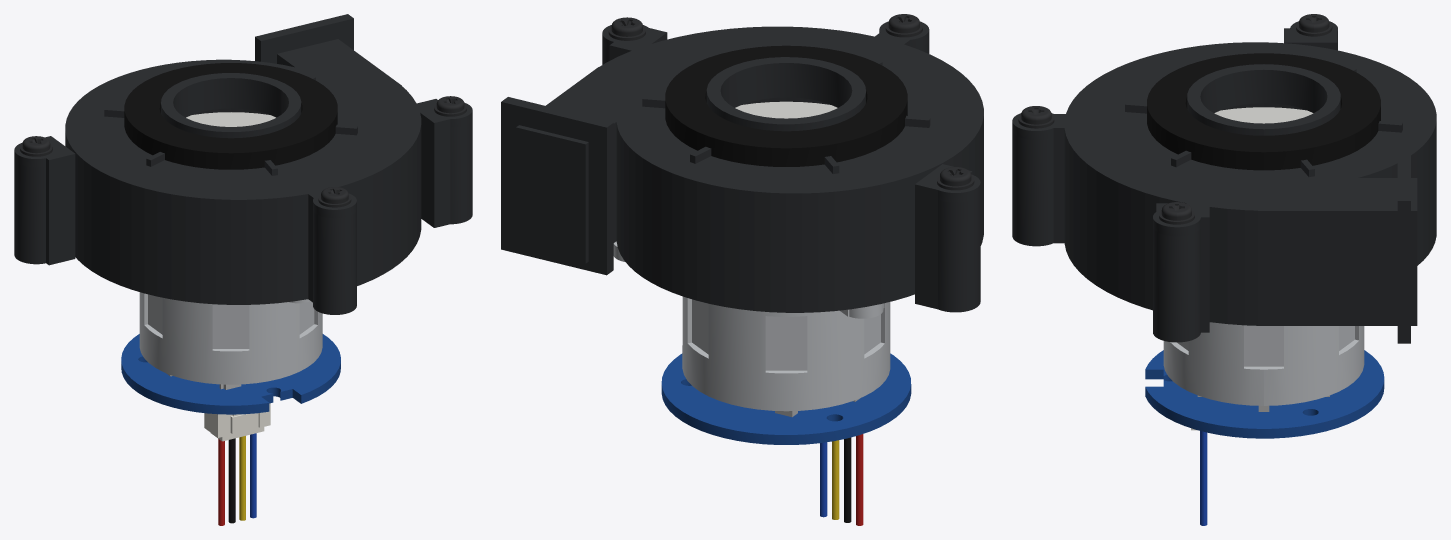
The model's file is bldc-fan.glb.
3 renders of one model, left to right at view 1: azimuth 30°, elevation 25°; view 2: azimuth 150°, elevation 25°; view 3: azimuth 270°, elevation 25°, orthographic. The views are drawn at different scales.
Parts seen in each view (by area): view 1: volute, cover_shell, motor_can, gasket_inlet, pcb, impeller, conn_header, plug_housing, wire_2, wire_1, wire_4, wire_3 (+3 smaller); view 2: volute, cover_shell, motor_can, gasket_inlet, pcb, impeller, screw_1, screw_2, screw_3, wire_1, wire_2, wire_3 (+1 smaller); view 3: volute, cover_shell, motor_can, gasket_inlet, pcb, impeller, wire_4, screw_1, screw_2, screw_3.
Part boxes in pixels (x1,y1,x2,y2): volute: (14,14,472,314); cover_shell: (14,39,472,218); motor_can: (139,292,322,384); gasket_inlet: (124,63,337,169); pcb: (121,334,340,414); impeller: (186,112,275,126); conn_header: (204,403,270,437); plug_housing: (211,413,264,441); wire_2: (228,438,235,523); wire_1: (218,439,224,525); wire_4: (250,433,256,518); wire_3: (239,436,245,520); volute: (501,40,983,312); cover_shell: (516,21,983,202); motor_can: (613,241,890,411); gasket_inlet: (665,45,907,166); pcb: (661,353,911,444); impeller: (735,101,837,118); screw_1: (885,14,922,37); screw_2: (937,167,974,190); screw_3: (608,17,645,40); wire_1: (856,434,863,525); wire_2: (844,437,851,522); wire_3: (832,440,839,519); volute: (1012,40,1436,343); cover_shell: (1012,21,1436,236); motor_can: (1163,322,1364,405); gasket_inlet: (1147,53,1380,170); pcb: (1145,350,1384,438); impeller: (1214,107,1313,123); wire_4: (1200,431,1207,525); screw_1: (1018,106,1054,128); screw_2: (1296,14,1332,36); screw_3: (1159,202,1194,224).
Size of the model in its own units: 0.0737 by 0.071 by 0.0634.
